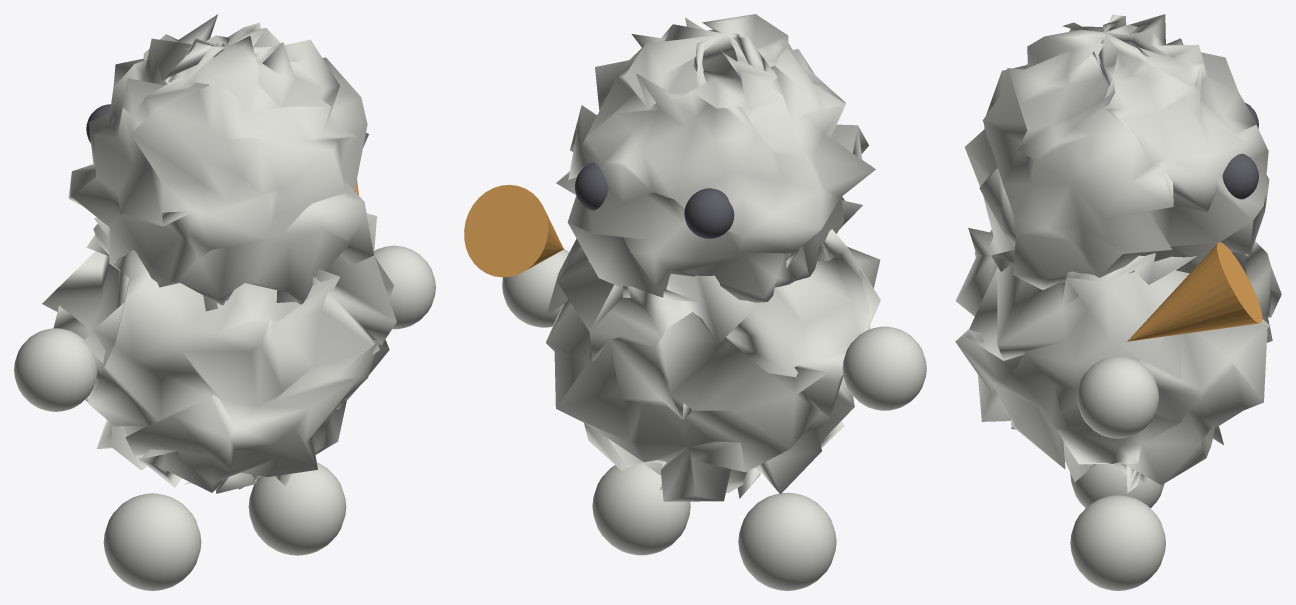
File: clay_bunny_carrot.glb
3 renders of one model, left to right at view 1: azimuth 30°, elevation 25°; view 2: azimuth 150°, elevation 25°; view 3: azimuth 270°, elevation 25°, orthographic. The views are drawn at different scales.
Parts seen in each view (by area): view 1: carrot; view 2: carrot; view 3: carrot.
Boxes of the visible parts, x1,y1,x2,y2 form: carrot: (14, 14, 435, 590); carrot: (464, 14, 926, 590); carrot: (955, 14, 1281, 590).
Size of the model in its own units: 1.43 by 1.77 by 1.
